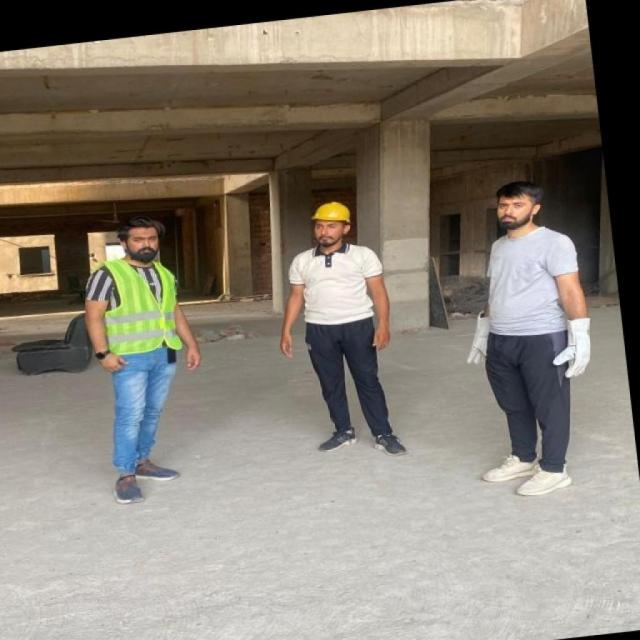Gloves-Detection: (555, 313, 594, 381), (457, 312, 489, 375)
